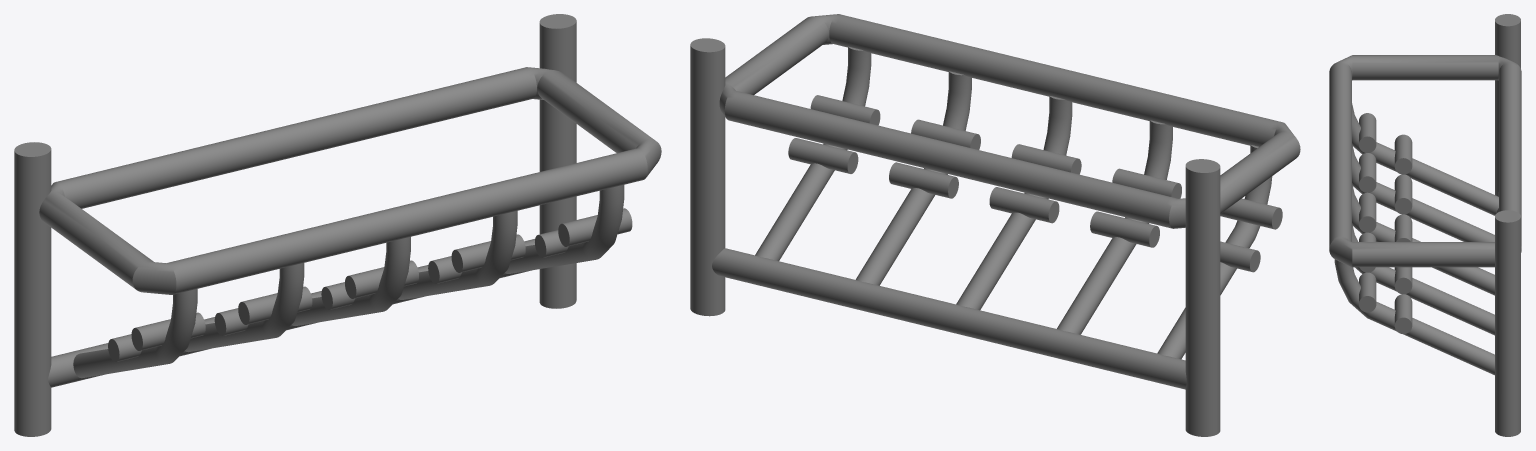
The model's file is clothes rack.fbx.
3 views of the same model, side by side, from view 1: azimuth 30°, elevation 25°; view 2: azimuth 150°, elevation 25°; view 3: azimuth 270°, elevation 25° (orthographic). The views are drawn at different scales.
Visible parts, largest first — view 1: clothes rack; view 2: clothes rack; view 3: clothes rack.
Part boxes in pixels (bbox=[...]): clothes rack: bbox=[14, 14, 661, 436]; clothes rack: bbox=[690, 14, 1300, 436]; clothes rack: bbox=[1329, 14, 1521, 436].
Size of the model in its own units: 279 by 134 by 109.
